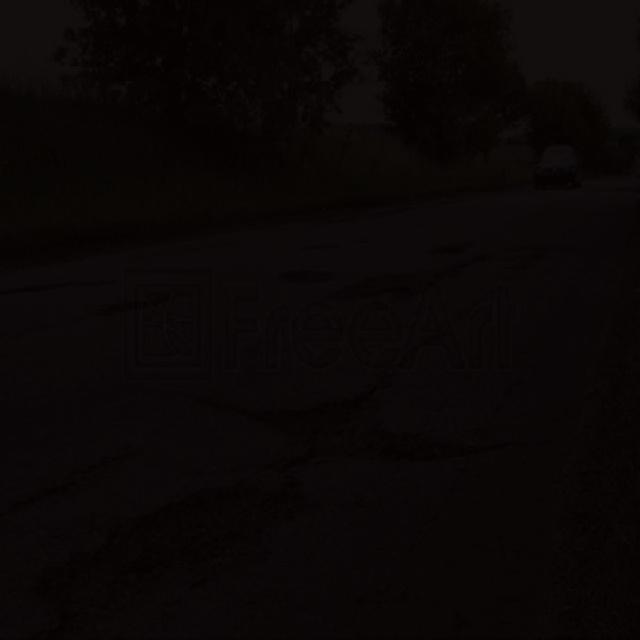Pothole: (0, 477, 332, 640), (194, 372, 534, 468), (284, 224, 484, 302)
